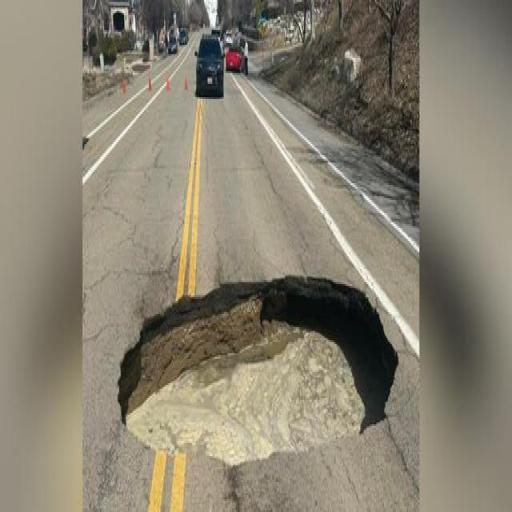Concentric_Crack: (118, 276, 398, 466)
